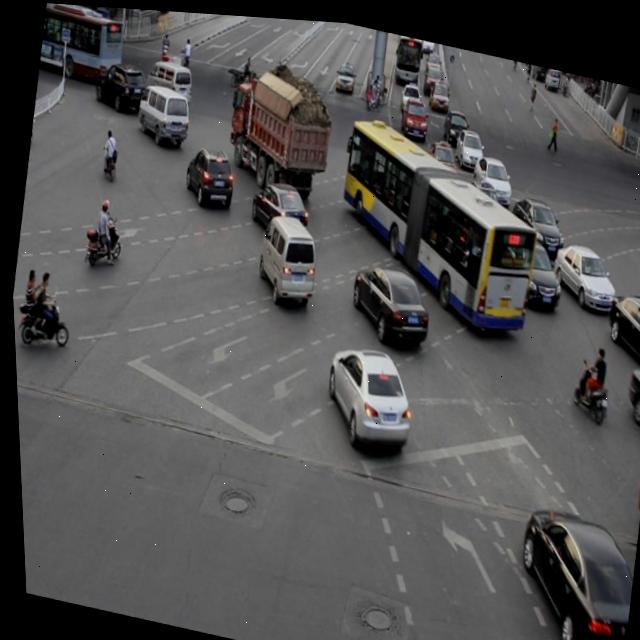bus: (219, 74, 334, 200)
car: (498, 492, 640, 640), (315, 334, 418, 451), (342, 251, 434, 346), (494, 225, 564, 307), (546, 229, 619, 306), (244, 171, 312, 243), (503, 186, 567, 256), (179, 140, 238, 211), (457, 172, 512, 238), (598, 278, 640, 361), (92, 55, 151, 114), (467, 147, 514, 200), (421, 132, 462, 183), (617, 350, 640, 422)
truck: (249, 205, 322, 305), (132, 78, 194, 147), (143, 54, 196, 111)
van: (323, 112, 548, 334)
